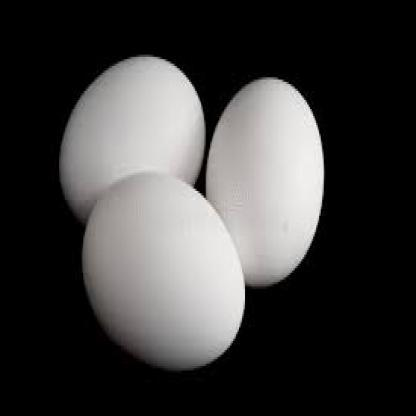egg: (82, 171, 246, 371), (57, 53, 206, 223), (207, 76, 325, 288)
